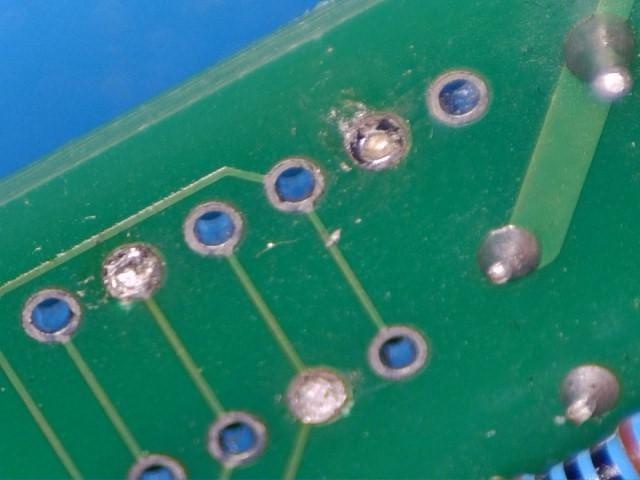pcb_defect: (349, 113, 410, 170), (102, 244, 163, 301), (290, 369, 347, 425)
